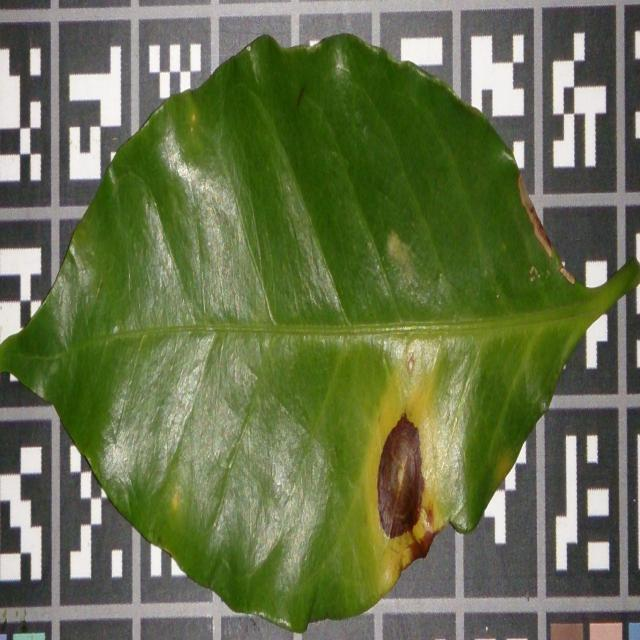Enfermedad-Mancha-de-hierro: (0, 35, 640, 638)
